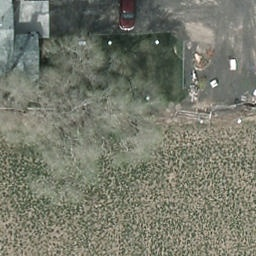car: (120, 0, 138, 32)
